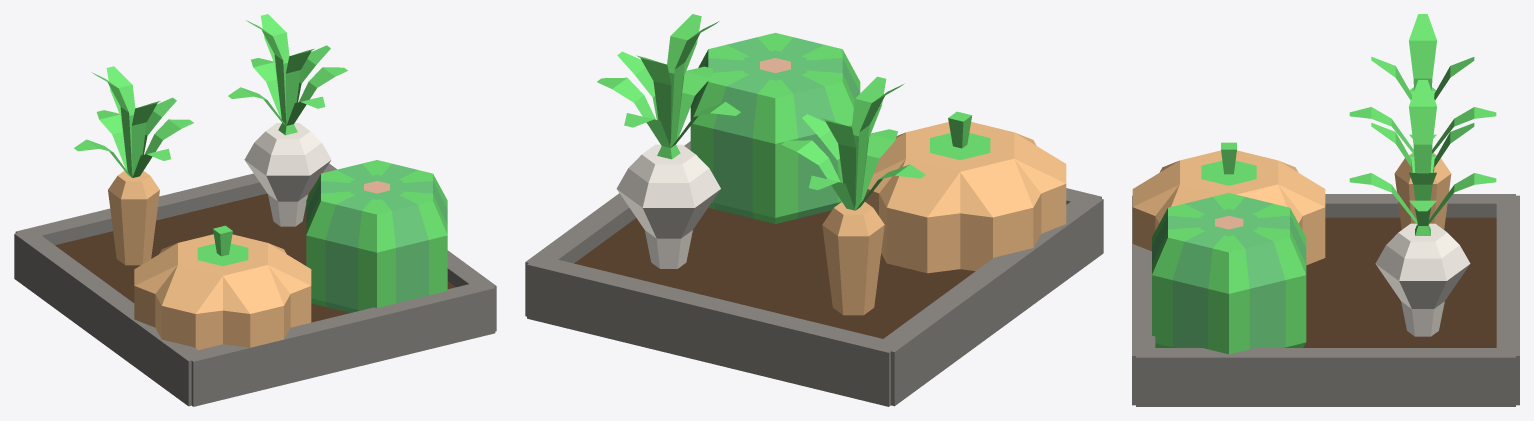
The model's file is flowerbed_veg.glb.
The picture shows the model from 3 angles, left to right: view 1: azimuth 30°, elevation 25°; view 2: azimuth 150°, elevation 25°; view 3: azimuth 270°, elevation 25°; orthographic projection. The views are drawn at different scales.
Visible parts, largest first — view 1: bed_soil, crop_melon, crop_pumpkin, crop_turnip, crop_carrot; view 2: bed_soil, crop_pumpkin, crop_melon, crop_turnip, crop_carrot; view 3: bed_soil, crop_melon, crop_turnip, crop_pumpkin, crop_carrot.
Part boxes in pixels (box(x1,y1,x2,y2)): bed_soil: box(14, 163, 496, 406); crop_melon: box(306, 160, 447, 312); crop_pumpkin: box(134, 225, 311, 350); crop_turnip: box(228, 14, 347, 226); crop_carrot: box(74, 66, 193, 265); bed_soil: box(525, 141, 1103, 406); crop_pumpkin: box(864, 111, 1066, 273); crop_melon: box(690, 33, 860, 223); crop_turnip: box(597, 14, 740, 268); crop_carrot: box(781, 76, 925, 315); bed_soil: box(1132, 194, 1519, 406); crop_melon: box(1152, 193, 1306, 354); crop_turnip: box(1349, 80, 1496, 336); crop_pumpkin: box(1132, 142, 1325, 265); crop_carrot: box(1349, 14, 1496, 229).
Bounding box in the file's own units: 1 × 0.7517 × 1.
